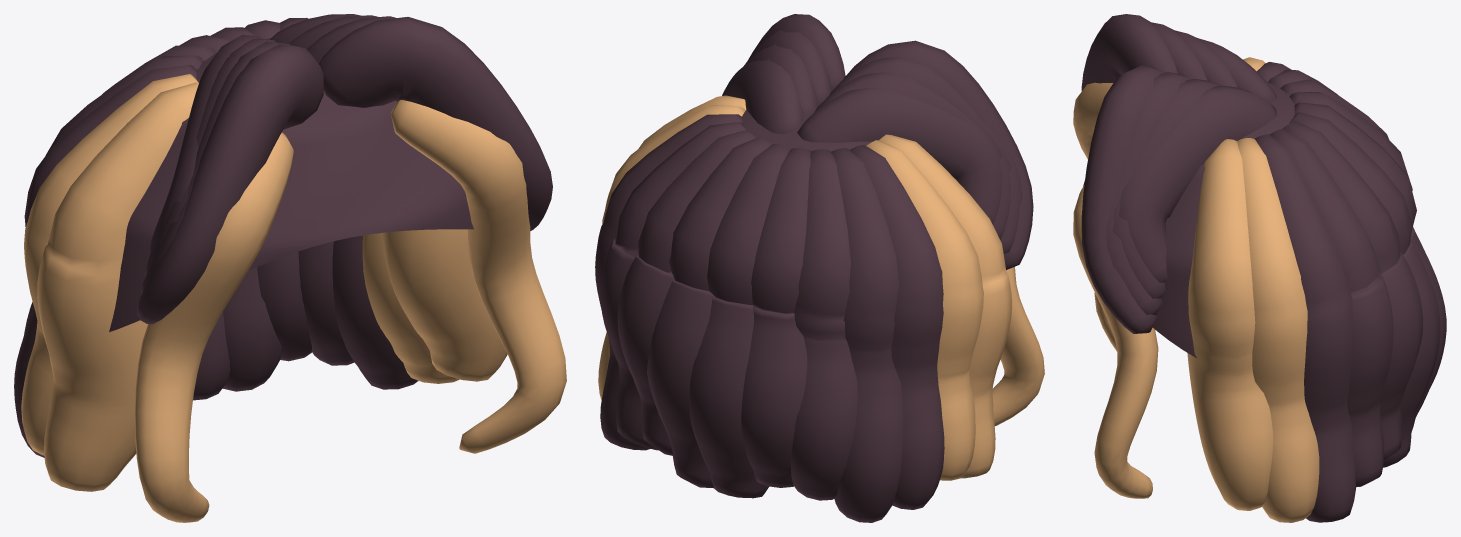
File: studio_lob_short.glb
The picture shows the model from 3 angles, left to right: view 1: azimuth 30°, elevation 25°; view 2: azimuth 150°, elevation 25°; view 3: azimuth 270°, elevation 25°; orthographic projection. The views are drawn at different scales.
Visible parts, largest first — view 1: lob; view 2: lob; view 3: lob.
Part boxes in pixels (bbox=[...]): lob: bbox=[14, 14, 566, 522]; lob: bbox=[595, 14, 1044, 522]; lob: bbox=[1073, 14, 1446, 522].
Bounding box in the file's own units: 0.577 × 0.5429 × 0.4543.
